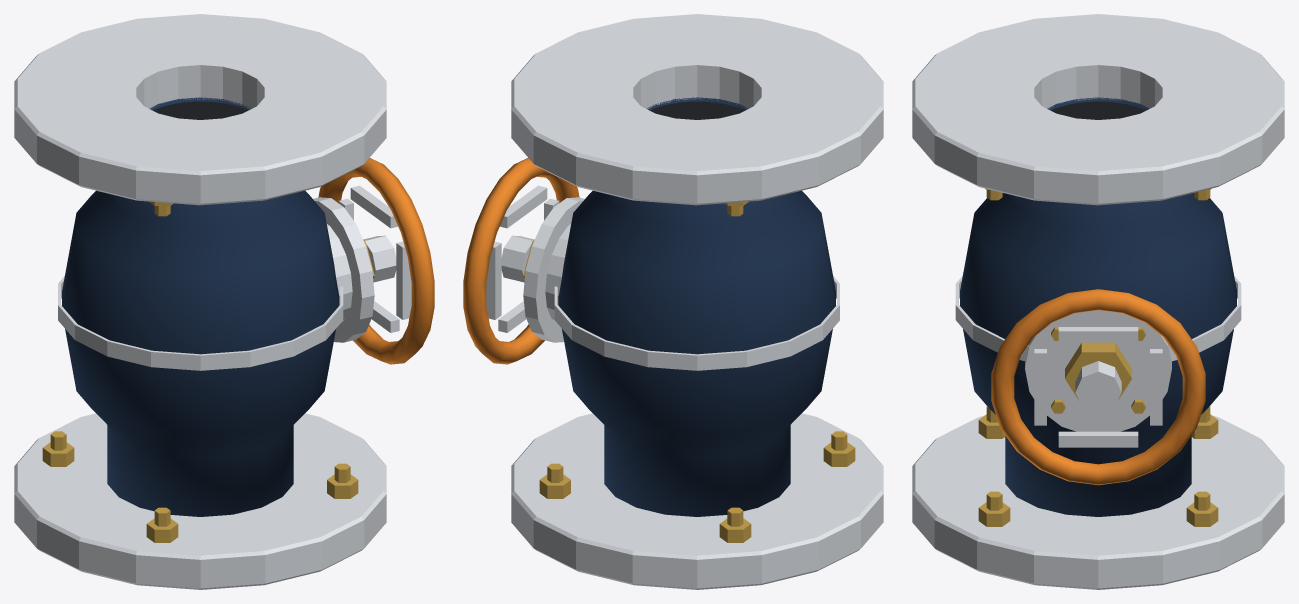
Rendered from valve_quality.glb.
3 renders of one model, left to right at view 1: azimuth 30°, elevation 25°; view 2: azimuth 150°, elevation 25°; view 3: azimuth 270°, elevation 25°, orthographic.
Parts seen in each view (by area): view 1: valve_quality; view 2: valve_quality; view 3: valve_quality.
Boxes of the visible parts, box(x1,y1,x2,y2) form: valve_quality: box(14, 14, 434, 589); valve_quality: box(463, 14, 883, 589); valve_quality: box(912, 14, 1284, 589).
Bounding box in the file's own units: 0.192 × 0.22 × 0.1773.
